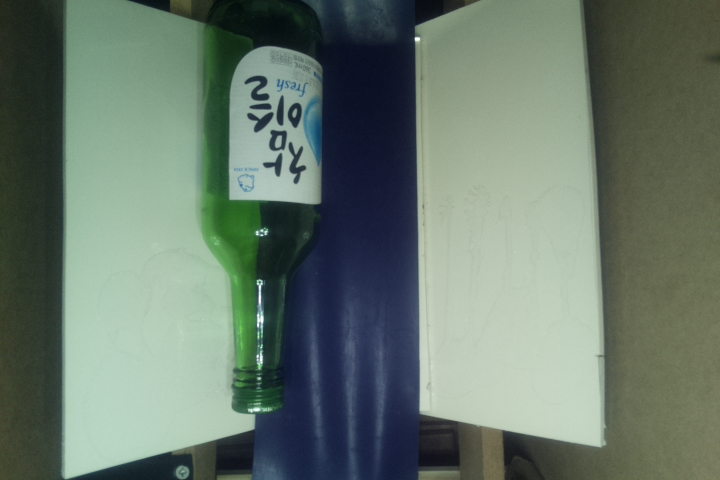soju: (190, 1, 331, 416)
